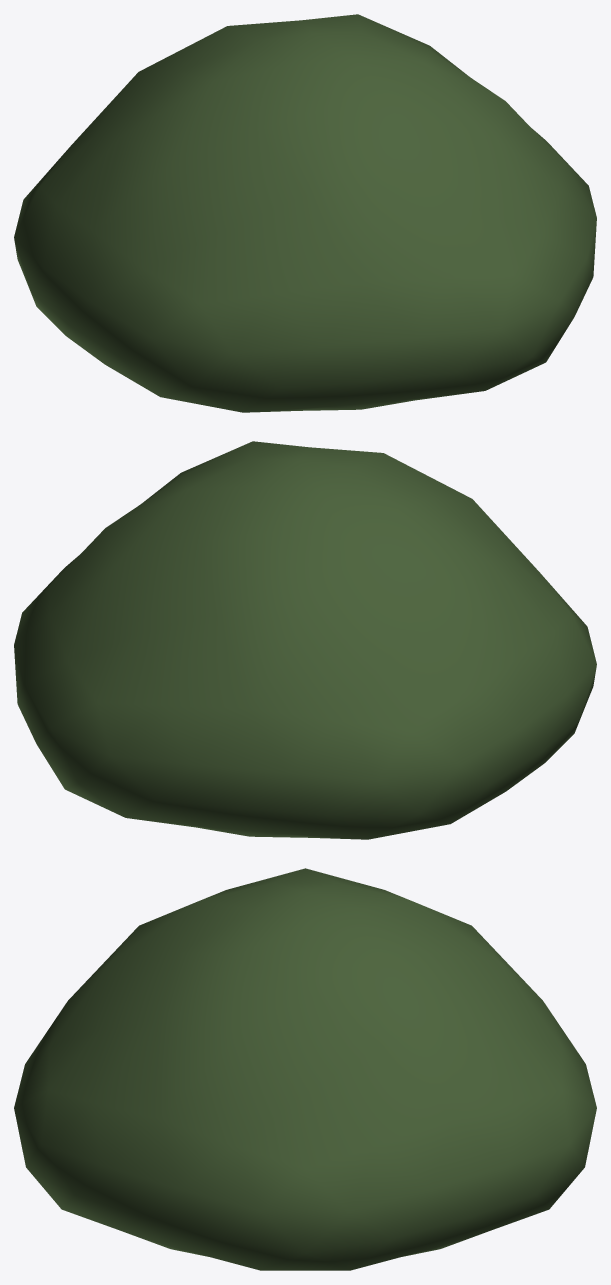
The model's file is p_mesh_trashbot_vollybomb_trashsplatter_green_pose0.fbx.
3 renders of one model, top to bottom at view 1: azimuth 30°, elevation 25°; view 2: azimuth 150°, elevation 25°; view 3: azimuth 270°, elevation 25°, orthographic.
Parts seen in each view (by area): view 1: volly_splatter_pose0; view 2: volly_splatter_pose0; view 3: volly_splatter_pose0.
Boxes of the visible parts, x1,y1,x2,y2 form: volly_splatter_pose0: (14, 14, 596, 412); volly_splatter_pose0: (14, 441, 596, 839); volly_splatter_pose0: (14, 868, 596, 1270).
Size of the model in its own units: 7.49 by 4.53 by 7.61.
